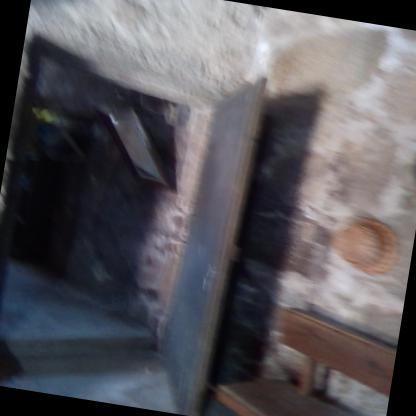semi: (0, 31, 257, 408)
